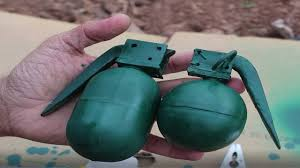e1: (39, 38, 166, 161), (164, 43, 280, 149)
